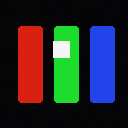1 square: (53, 41, 69, 57)
